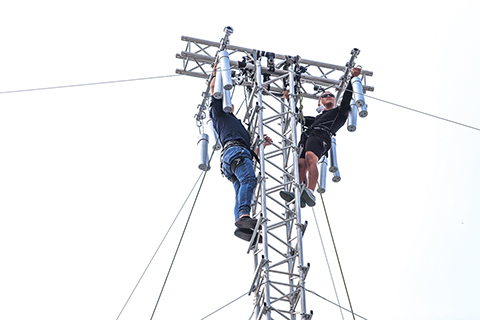infiltrator: (201, 81, 264, 244), (284, 84, 351, 207)
